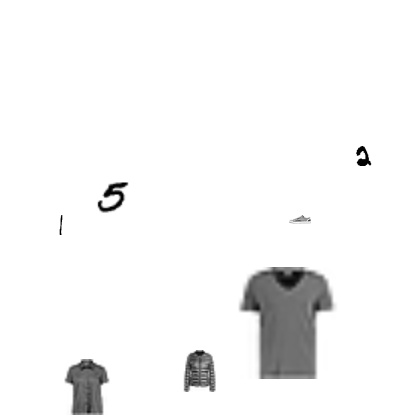0: (289, 206, 303, 220)
3: (354, 181, 396, 223), (115, 62, 143, 90)
6: (43, 264, 127, 348)
7: (268, 114, 324, 170)
Ankle_boot: (21, 99, 77, 155)
Trouser: (243, 21, 299, 77), (142, 13, 170, 41)
